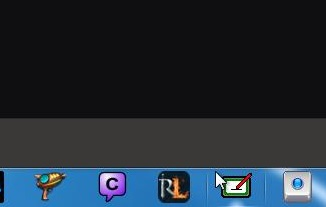cursor: (211, 168, 230, 193)
